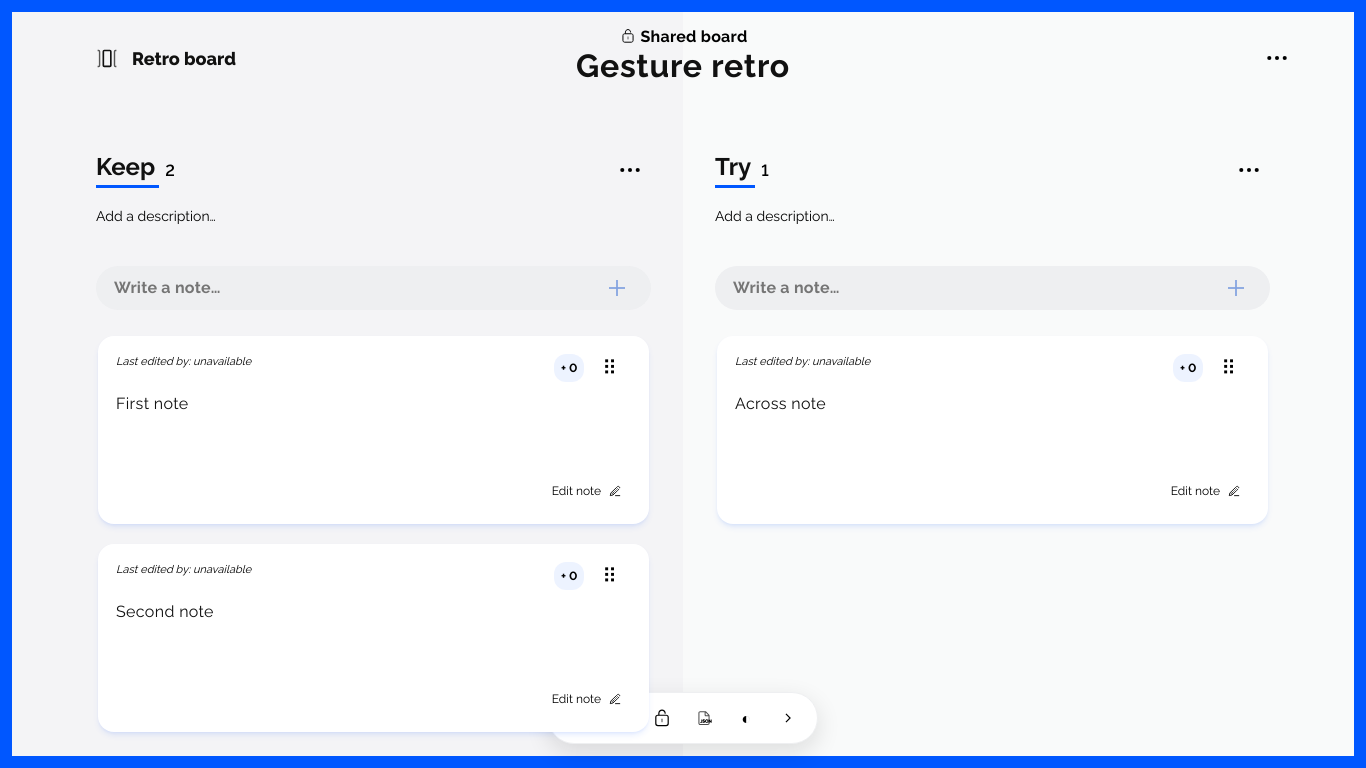
Test: keeps the exact drag-start snapshot when observations refresh during the gesture
Press the mouse on the button with aria-label "Open note: First note" at (152, 404), box x1=116 y1=382 x2=623 y2=472
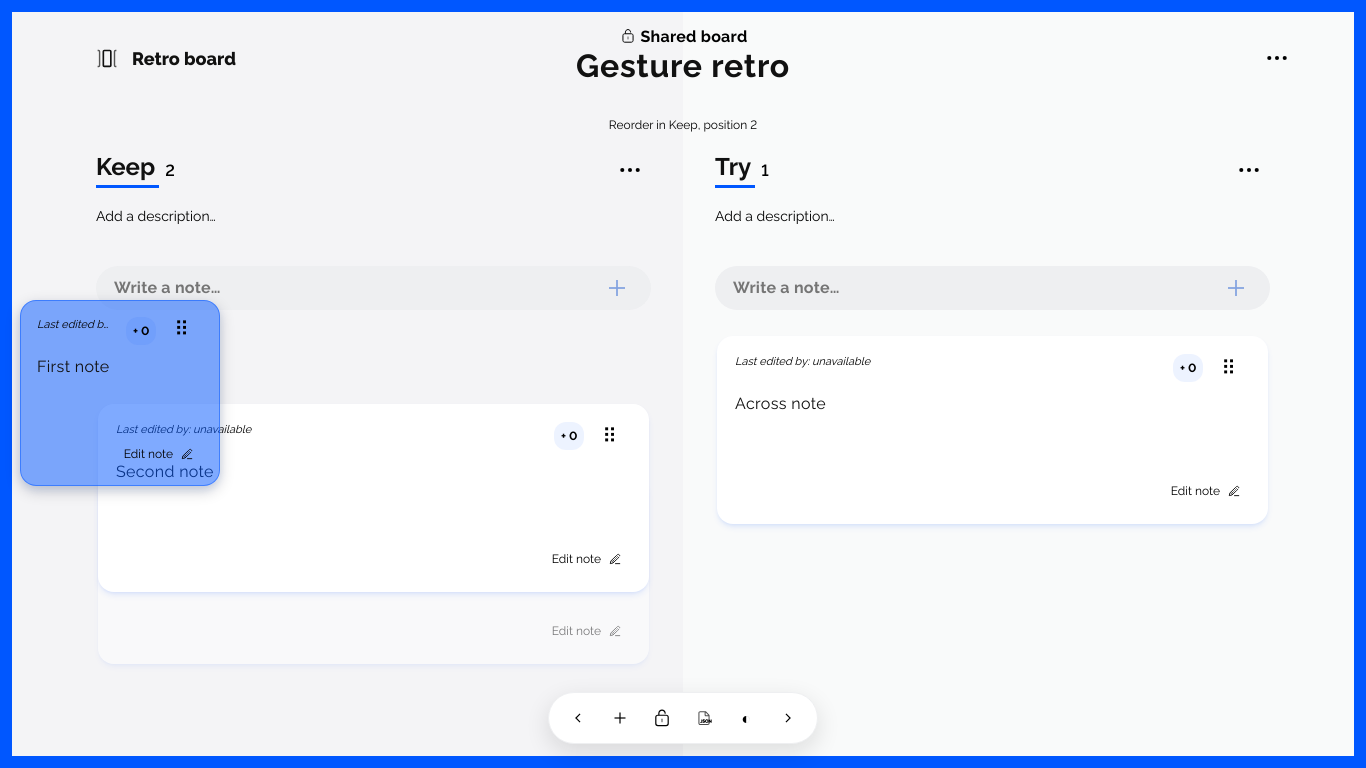
Now the element with class "board--dragging" is shown
